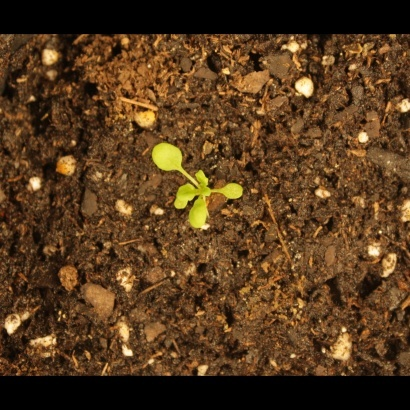leaf: (153, 140, 184, 178), (170, 181, 203, 213), (220, 172, 251, 204), (187, 201, 218, 229), (195, 167, 218, 190)
